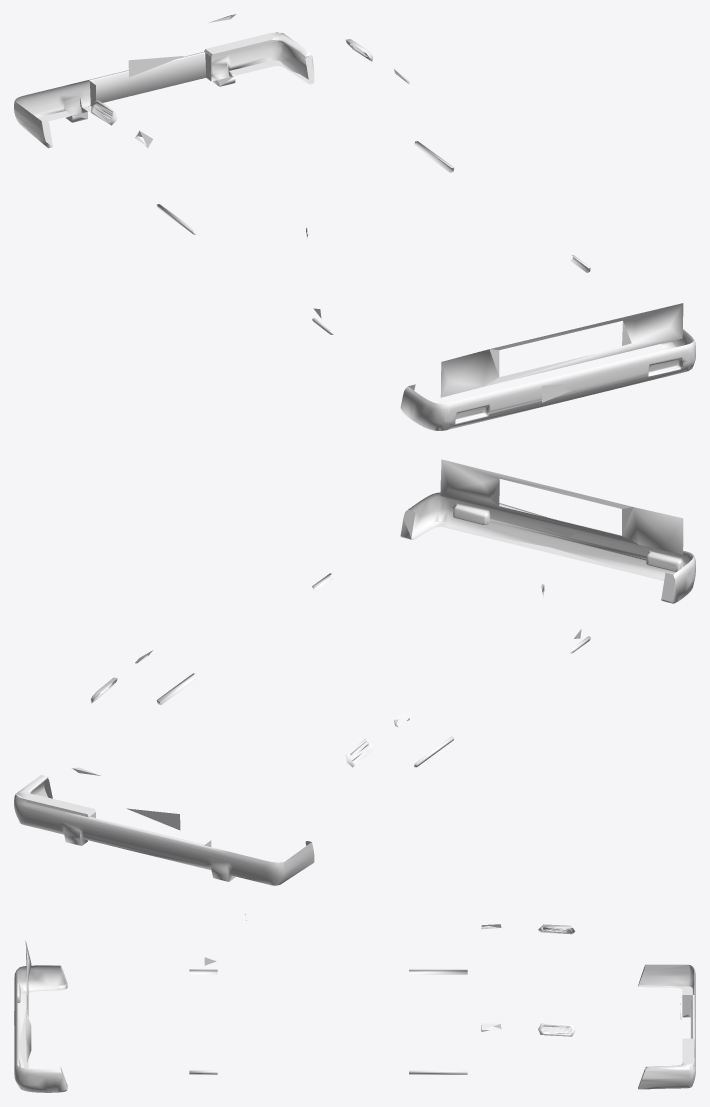
3 views of the same model, one above another, from view 1: azimuth 30°, elevation 25°; view 2: azimuth 150°, elevation 25°; view 3: azimuth 270°, elevation 25° (orthographic). The views are drawn at different scales.
Bounding box in the file's own units: 1.54 × 0.5553 × 4.16.
1 material, 1 textured.
